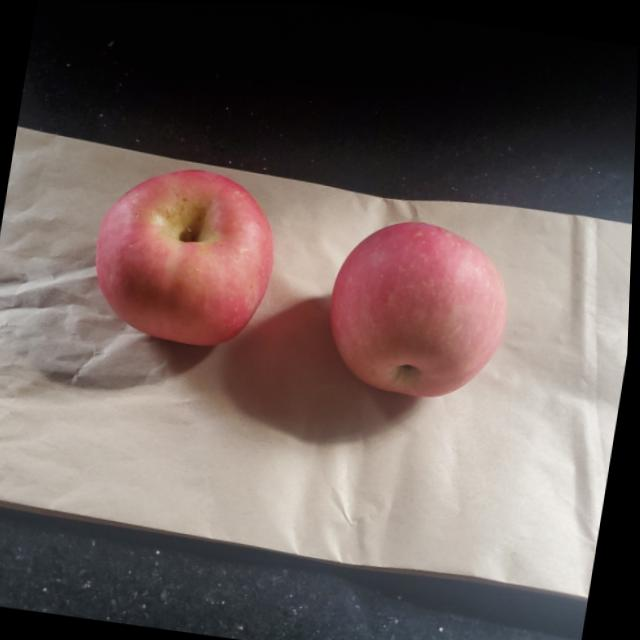apple: (80, 155, 285, 355), (317, 210, 523, 408)
